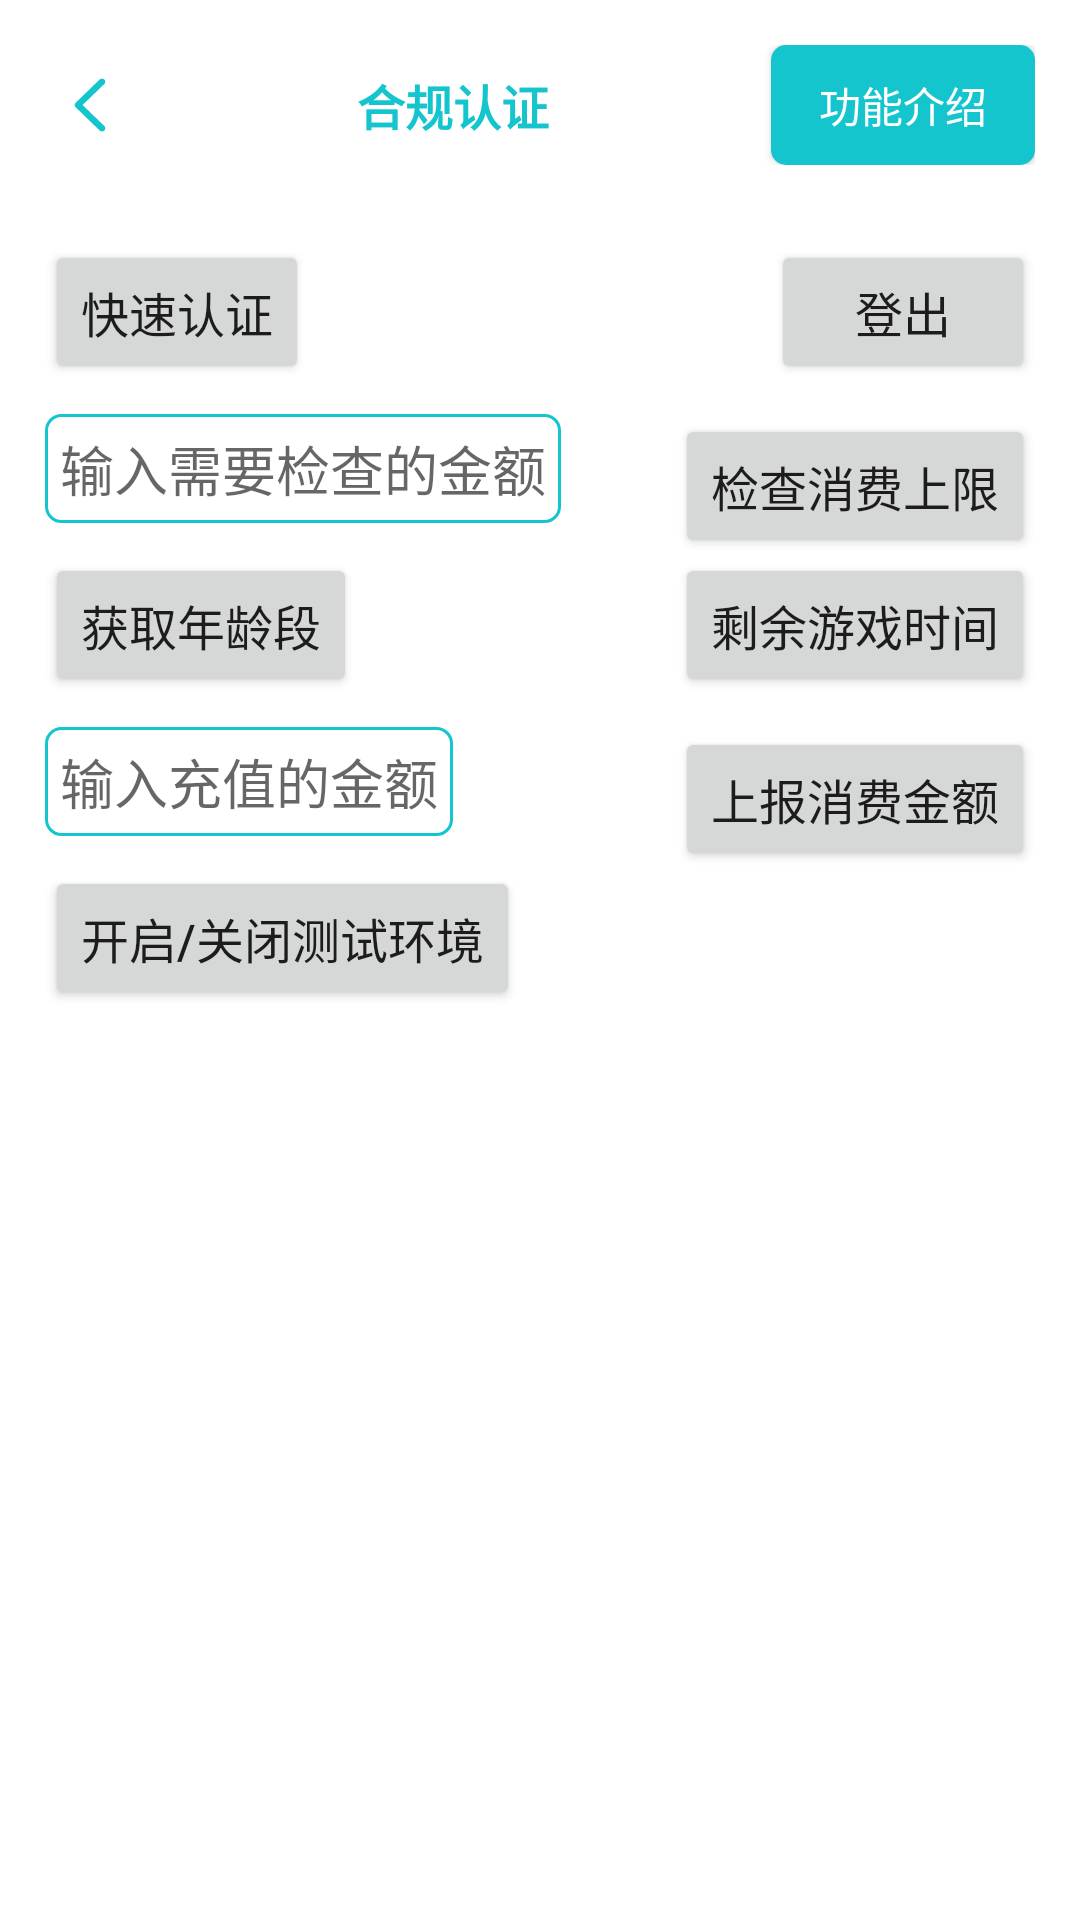

Icon click points for this 1080w x 1920h phone screenshot, format [x,y]:
back: [90,105]
